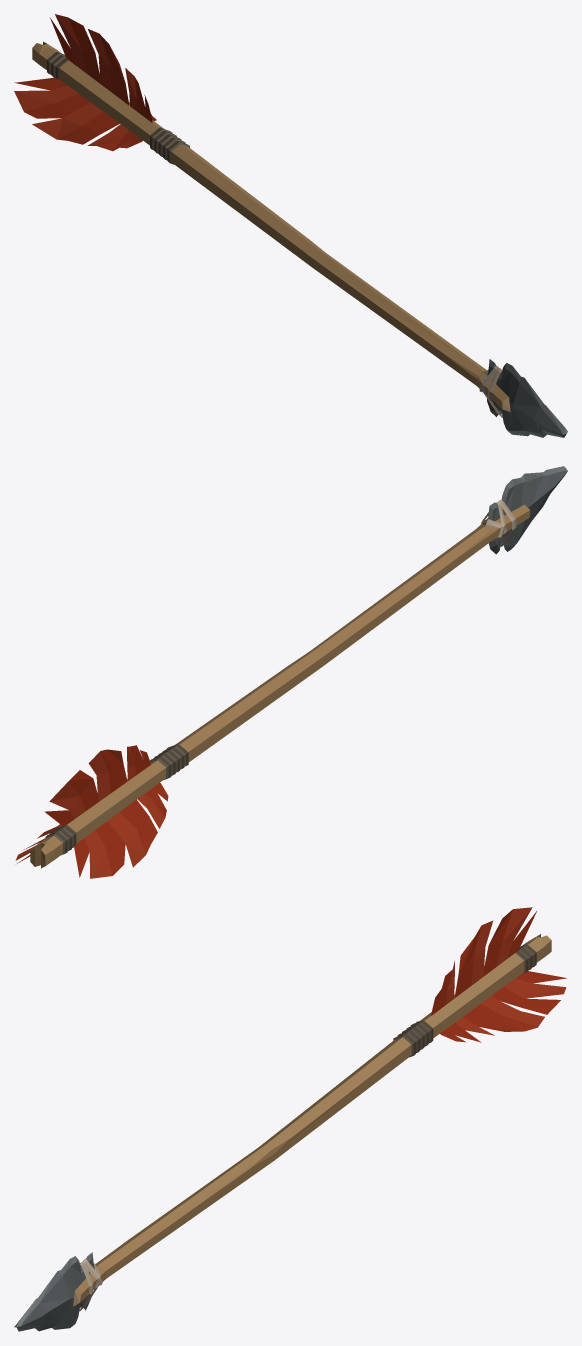
The model's file is stoneTipArrow.glb.
3 views of the same model, one above another, from view 1: azimuth 30°, elevation 25°; view 2: azimuth 150°, elevation 25°; view 3: azimuth 330°, elevation 25° (orthographic).
Visible parts, largest first — view 1: stoneTipArrow; view 2: stoneTipArrow; view 3: stoneTipArrow.
Part boxes in pixels (left/top/right/bottom): stoneTipArrow: left=14, top=14, right=567, bottom=437; stoneTipArrow: left=15, top=466, right=567, bottom=878; stoneTipArrow: left=14, top=907, right=566, bottom=1331.
Size of the model in its own units: 0.116 by 0.1079 by 1.03.
